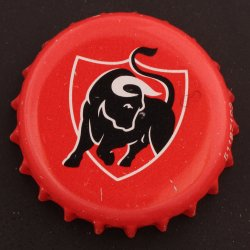jupiler: (9, 9, 240, 240)
